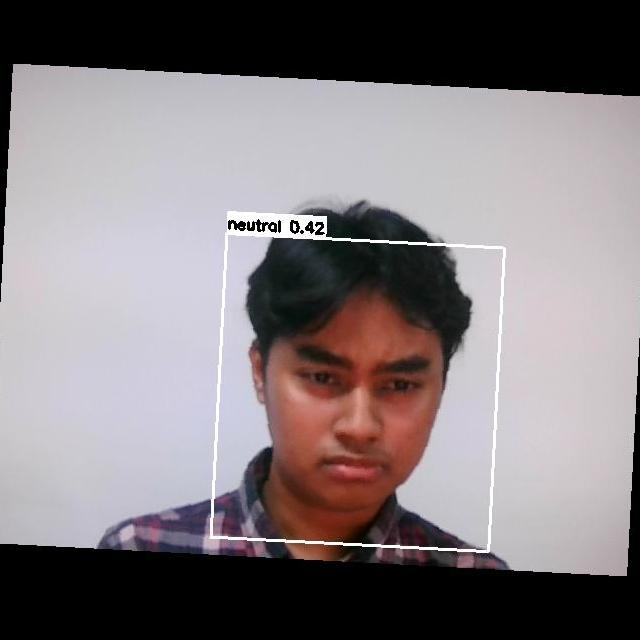Angry: (269, 328, 441, 489)
